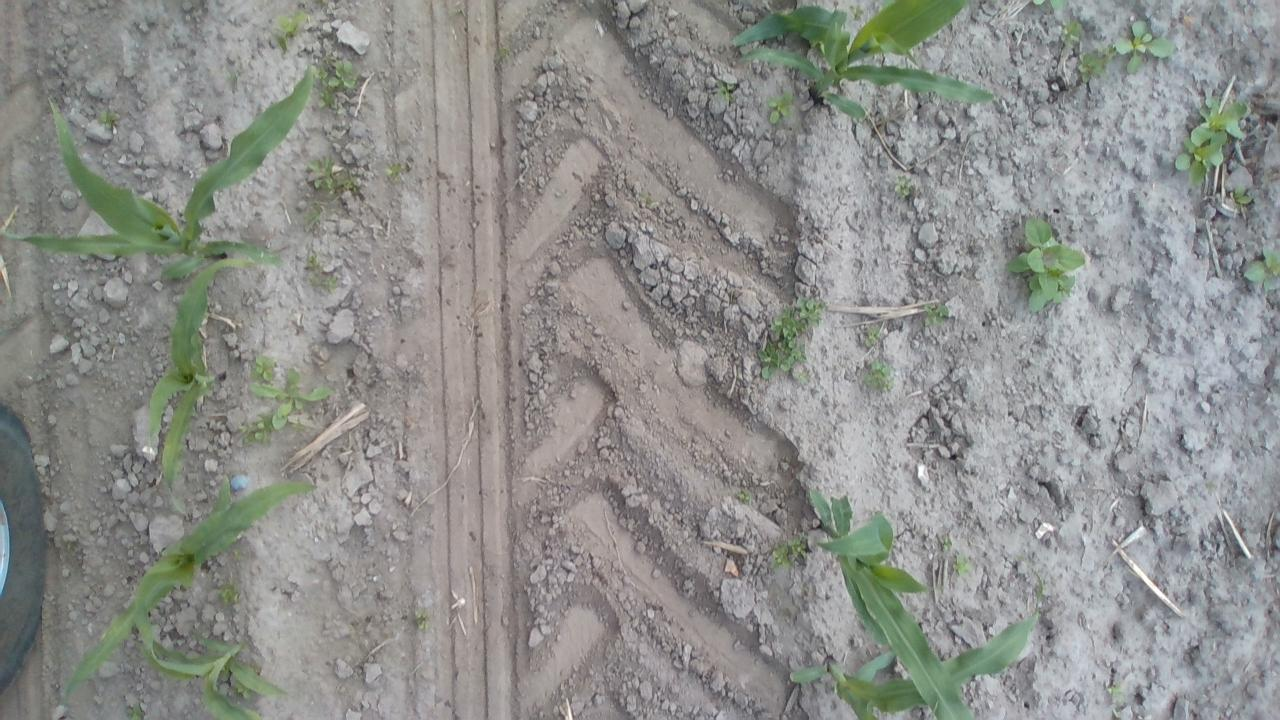Maize: (6, 54, 320, 281), (62, 470, 322, 704), (788, 564, 1049, 720), (805, 488, 972, 720), (728, 0, 1001, 123), (140, 256, 262, 497), (130, 579, 291, 720)
Weeds: (1006, 213, 1090, 314), (1172, 90, 1252, 187), (754, 292, 829, 382), (248, 364, 332, 429), (1113, 16, 1177, 75), (317, 57, 359, 112), (1240, 243, 1279, 294), (267, 9, 307, 55), (1074, 42, 1116, 84), (238, 410, 276, 448), (309, 150, 339, 197), (1056, 12, 1090, 53), (856, 357, 894, 393), (762, 88, 796, 126), (771, 536, 805, 572), (304, 272, 340, 299), (248, 351, 278, 383), (920, 300, 949, 328), (710, 79, 738, 105), (302, 200, 324, 231), (216, 577, 240, 605), (1230, 182, 1254, 209), (1031, 0, 1066, 17), (891, 172, 913, 198), (98, 107, 120, 132), (860, 324, 883, 346), (224, 64, 243, 88), (950, 551, 969, 574), (936, 534, 956, 554), (386, 160, 402, 184), (412, 607, 428, 631), (340, 173, 358, 194), (124, 701, 143, 720), (304, 256, 322, 275), (638, 188, 654, 207), (233, 684, 250, 698), (735, 488, 751, 502), (1106, 681, 1120, 696), (496, 46, 509, 62), (448, 6, 466, 16), (232, 550, 245, 563), (314, 68, 328, 80)
